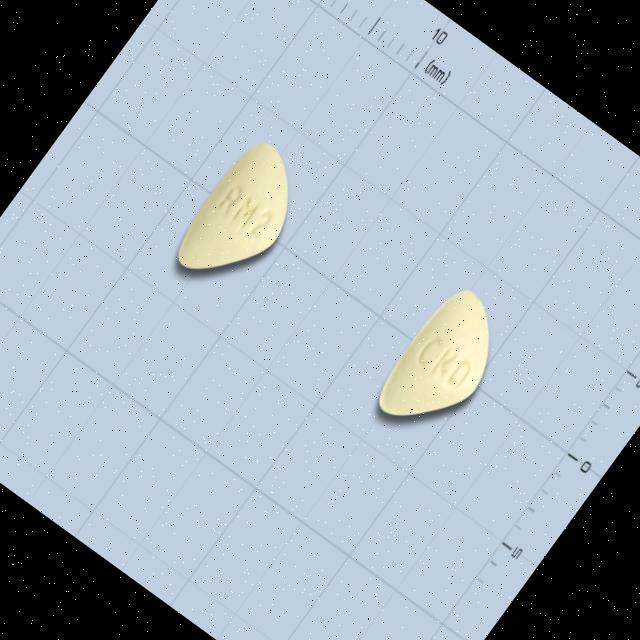Ciroctan - 500mg: (164, 131, 322, 304), (366, 278, 524, 450)
